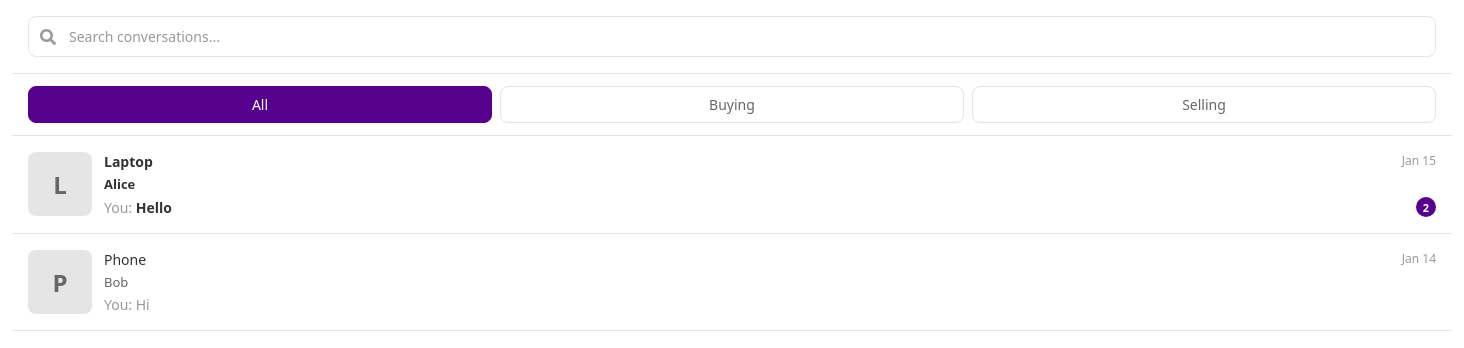
Test case: ConversationList › Search functionality › filters conversations by title
The width and height of the screenshot is (1464, 348).
In the field with placeholder "Search conversations...": (732, 36) [28,16,1436,57], type "Laptop"
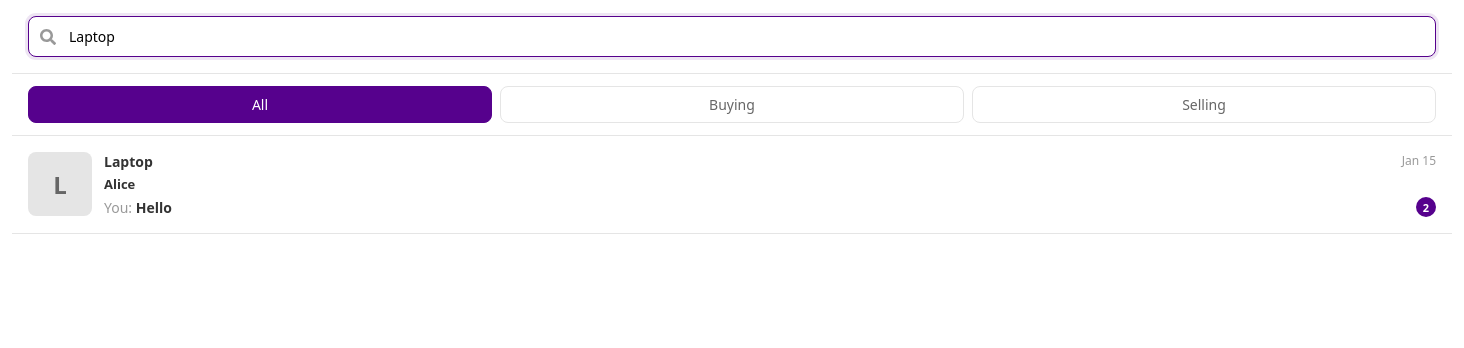
Expected: the heading "Laptop" is shown, [104,152,153,171]
Expected: the button "Phone" is gone
